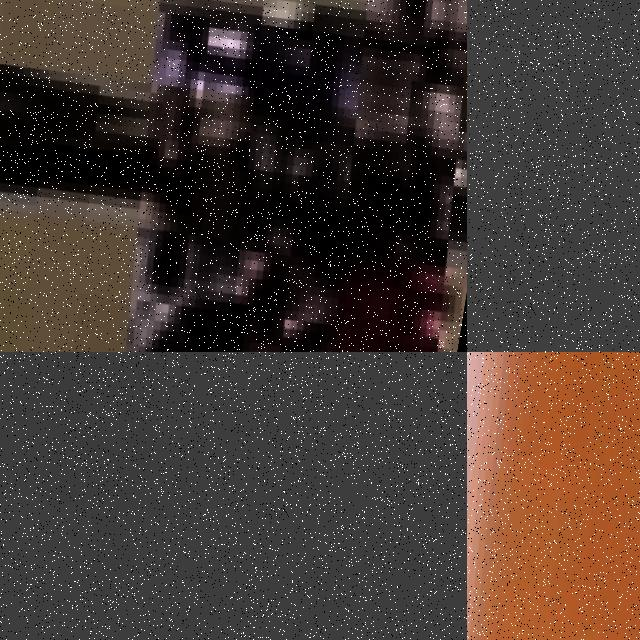0: (0, 0, 467, 352)
drone: (467, 352, 640, 640)
